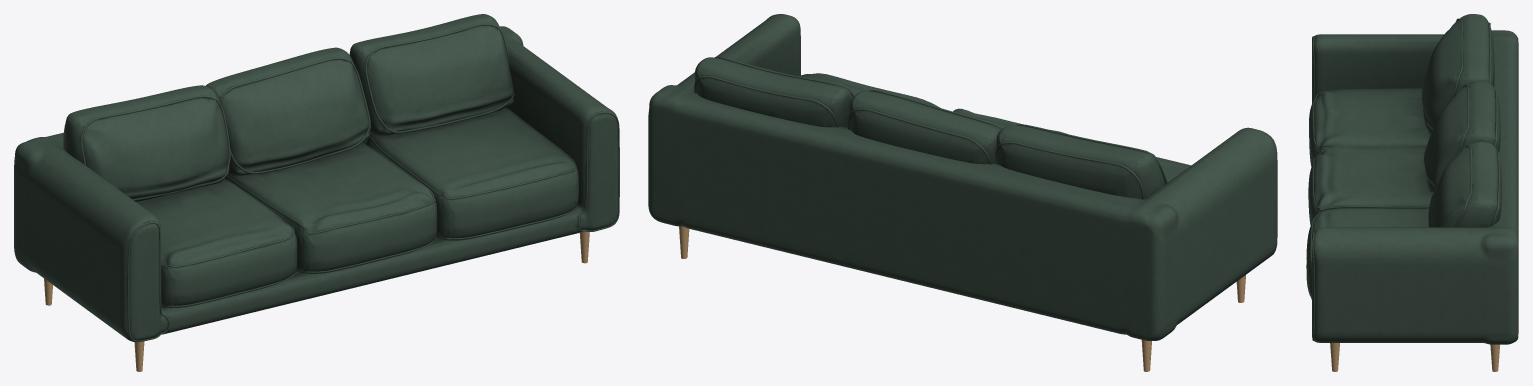
The model's file is pana-bosque.gltf.
3 views of the same model, side by side, from view 1: azimuth 30°, elevation 25°; view 2: azimuth 150°, elevation 25°; view 3: azimuth 270°, elevation 25° (orthographic). The views are drawn at different scales.
Parts seen in each view (by area): view 1: tela_ar, madera_ar; view 2: tela_ar, madera_ar; view 3: tela_ar, madera_ar.
Boxes of the visible parts, x1,y1,x2,y2 form: tela_ar: (14,14,619,342); madera_ar: (44,231,589,371); tela_ar: (648,14,1277,340); madera_ar: (679,226,1245,371); tela_ar: (1306,14,1518,344); madera_ar: (1330,343,1499,371).
Size of the model in its own units: 2.2 by 0.8208 by 0.921.
Materials: 2 (2 with a texture image).
